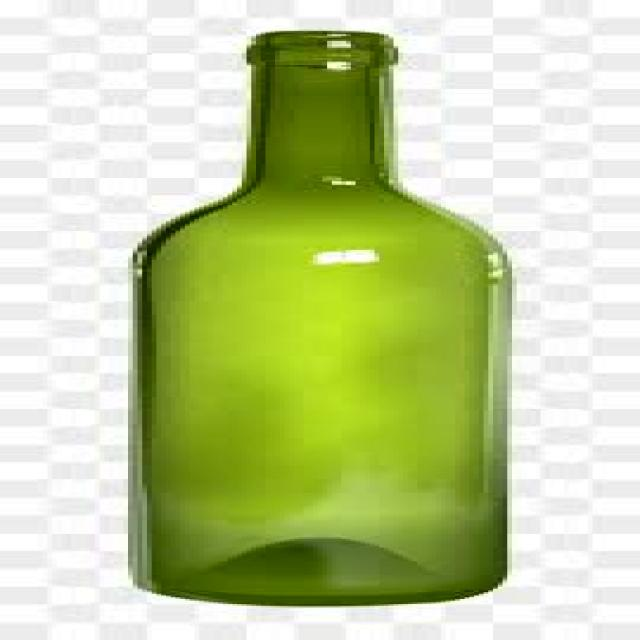Glass: (114, 26, 522, 610)
